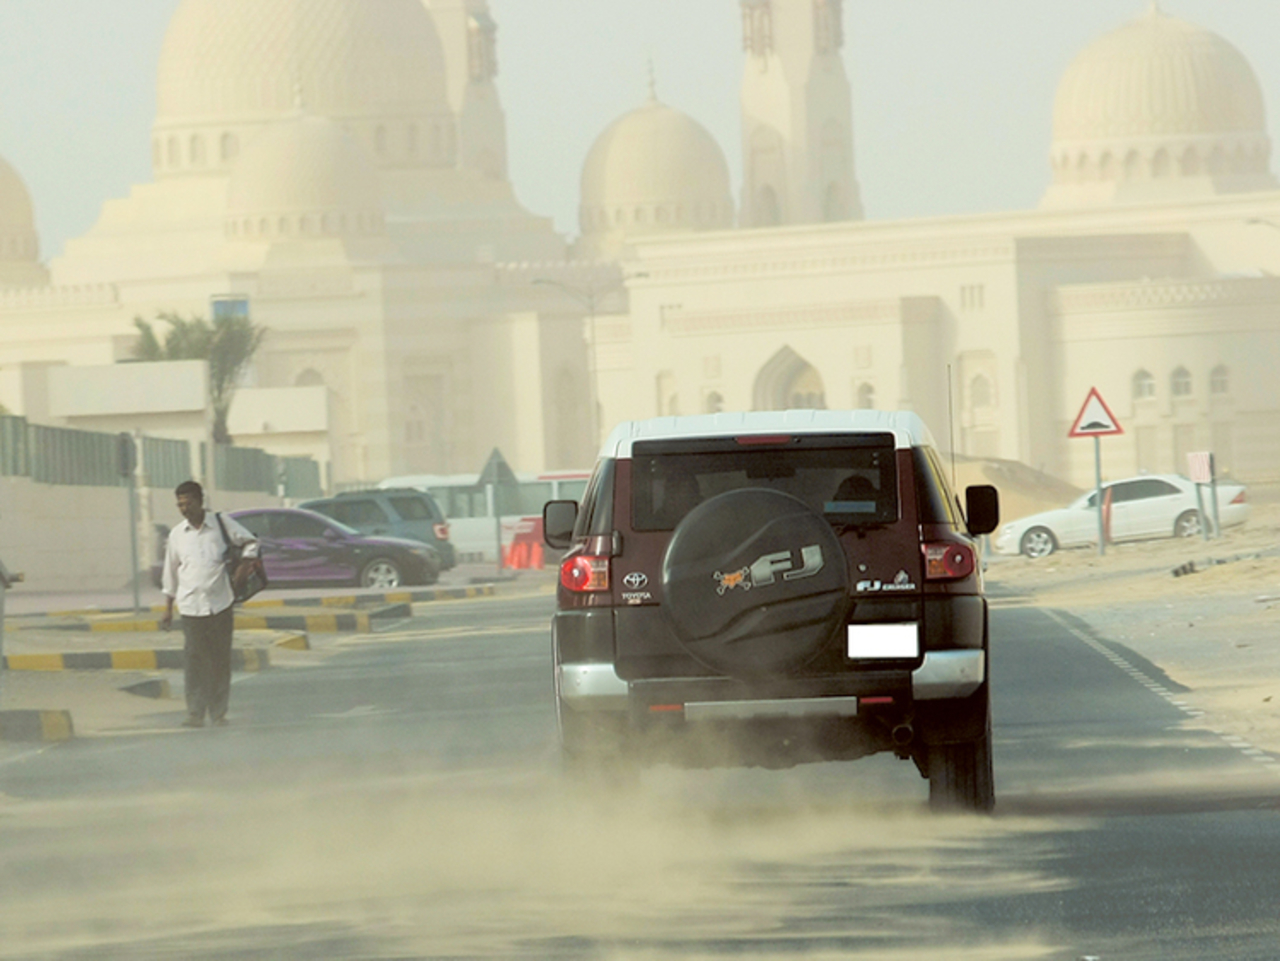bus: (372, 469, 589, 567)
car: (548, 421, 993, 816), (1001, 471, 1238, 556), (220, 506, 433, 594), (288, 495, 460, 581)
person: (158, 477, 259, 731)
